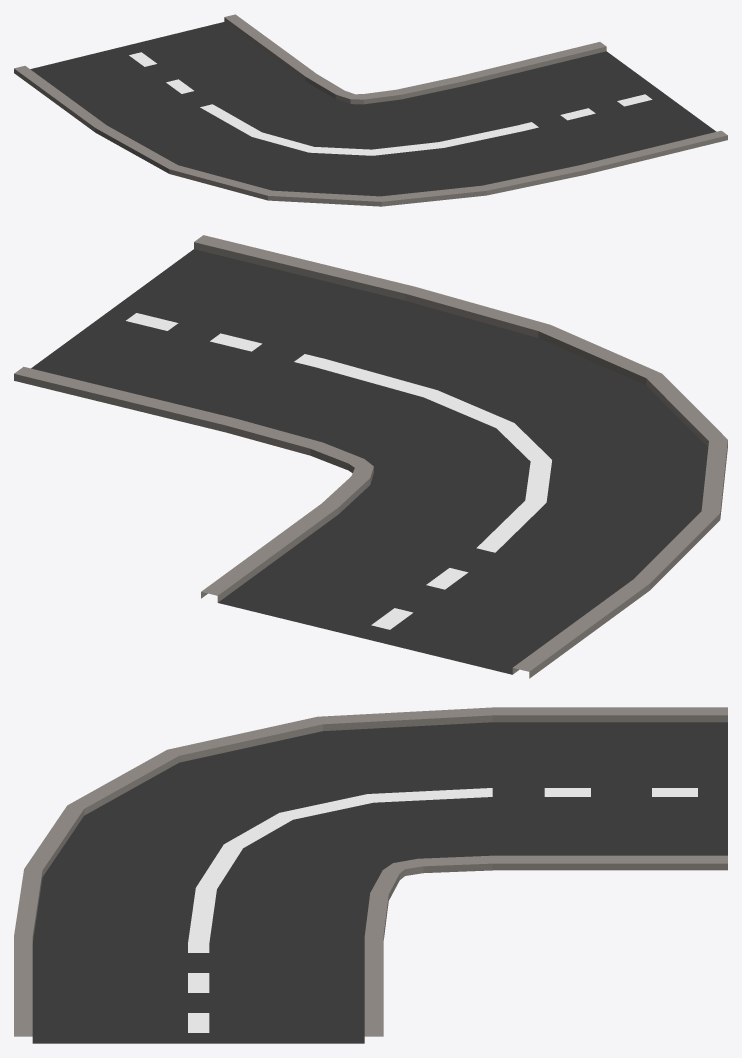
Rendered from RoadTile_2.fbx.
3 views of the same model, one above another, from view 1: azimuth 30°, elevation 25°; view 2: azimuth 150°, elevation 25°; view 3: azimuth 270°, elevation 25° (orthographic). The views are drawn at different scales.
Parts seen in each view (by area): view 1: RoadTile_2; view 2: RoadTile_2; view 3: RoadTile_2.
Boxes of the visible parts, x1,y1,x2,y2 form: RoadTile_2: (14,14,727,206); RoadTile_2: (14,235,727,678); RoadTile_2: (14,707,727,1043).
Bounding box in the file's own units: 1235 × 12 × 1132.
